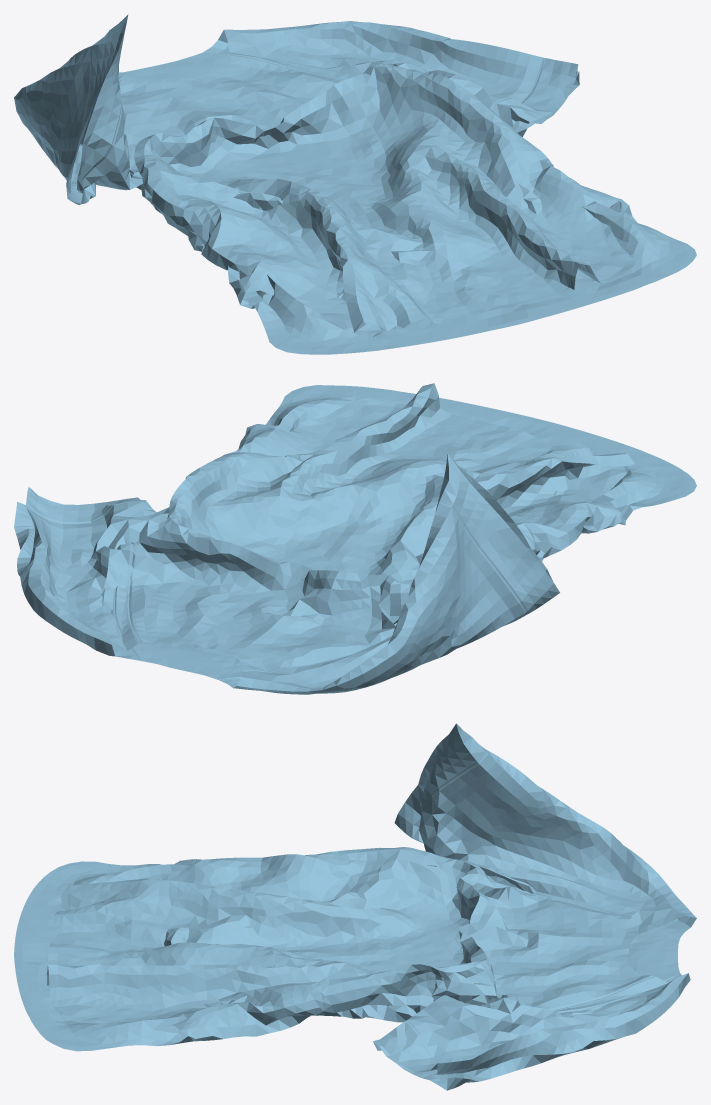
Rendered from frame_10.glb.
3 views of the same model, one above another, from view 1: azimuth 30°, elevation 25°; view 2: azimuth 150°, elevation 25°; view 3: azimuth 270°, elevation 25° (orthographic). The views are drawn at different scales.
Visible parts, largest first — view 1: frame_10.obj; view 2: frame_10.obj; view 3: frame_10.obj.
Part boxes in pixels (left/top/right/bottom): frame_10.obj: left=14, top=14, right=696, bottom=354; frame_10.obj: left=14, top=383, right=696, bottom=694; frame_10.obj: left=14, top=723, right=696, bottom=1090.
Size of the model in its own units: 1.55 by 0.5024 by 1.83.
